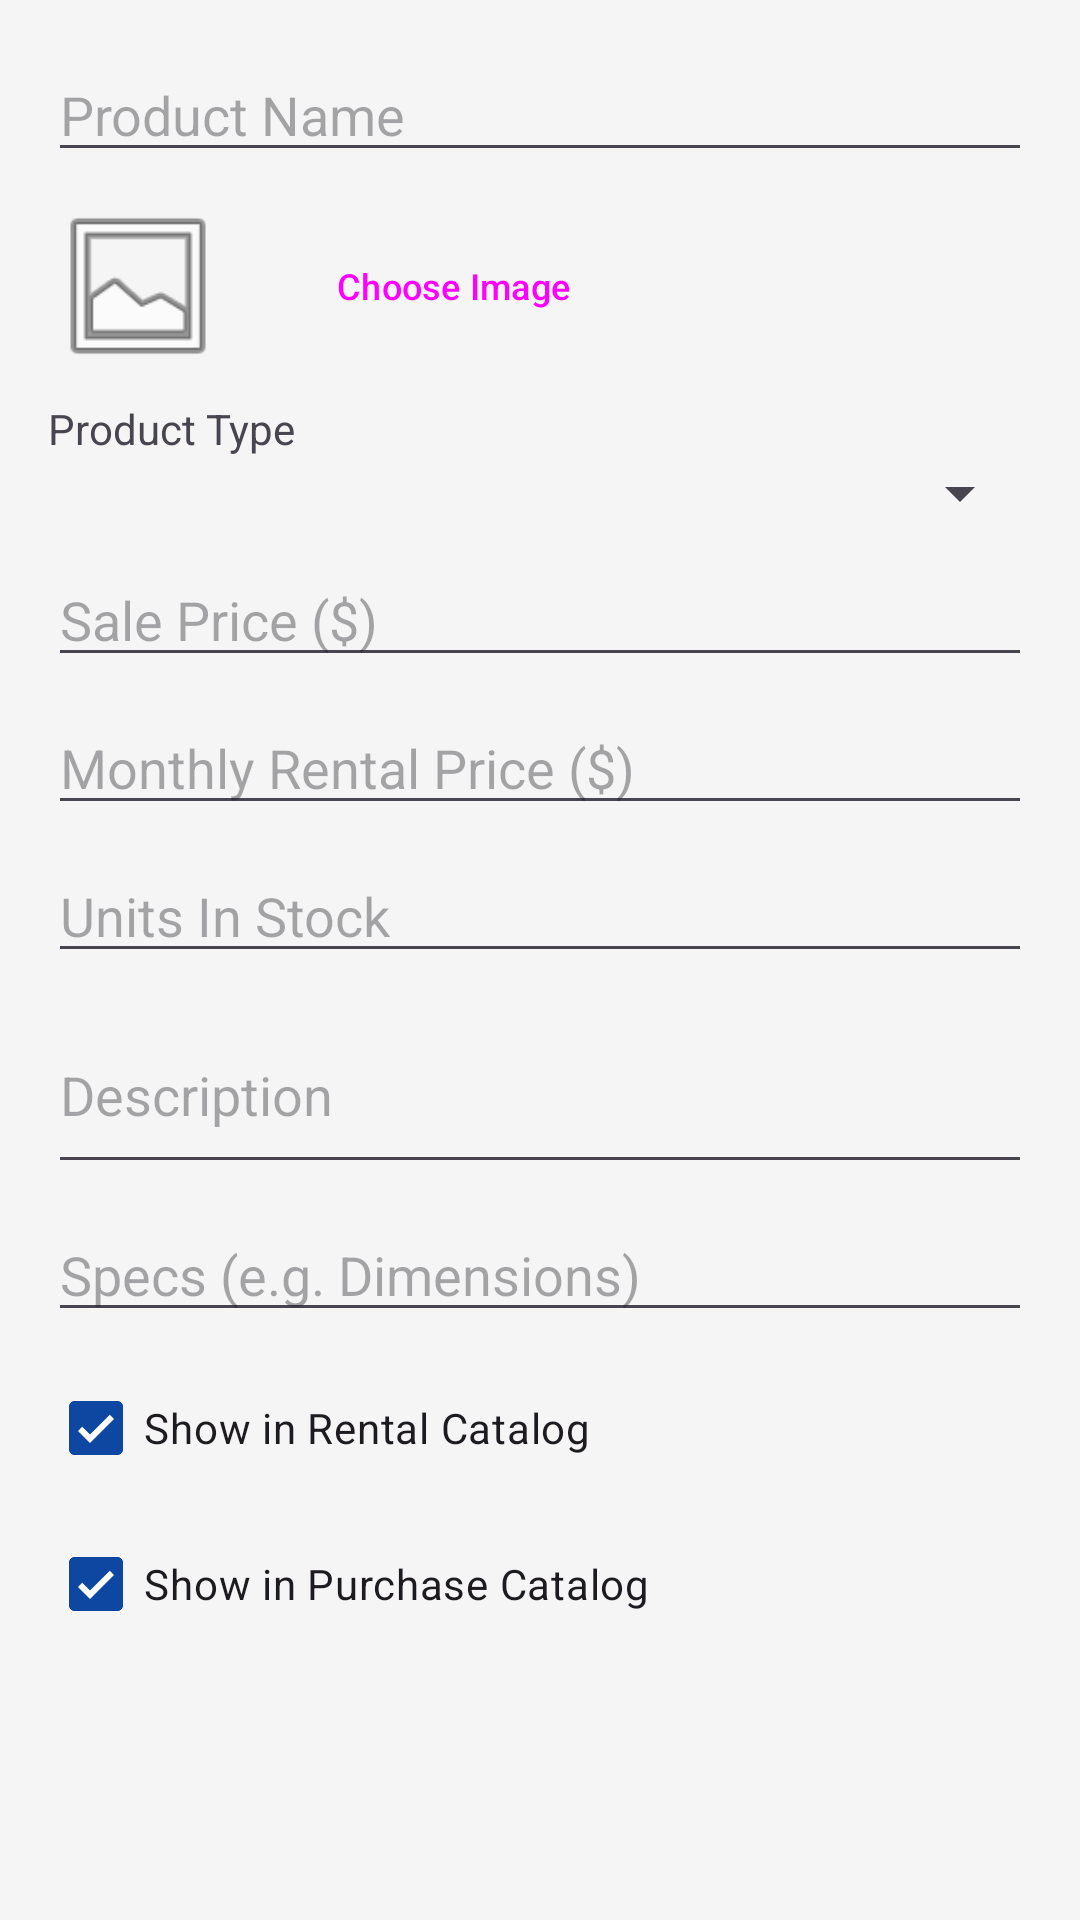

Named icons in this screenshot (1080 x 1920) and their centers, (x,y):
gallery: (138,286)
